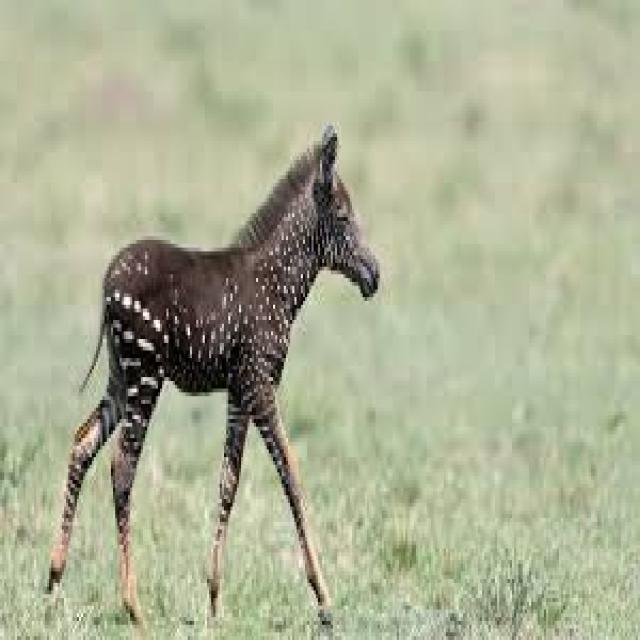Zebra: (46, 122, 386, 616)
